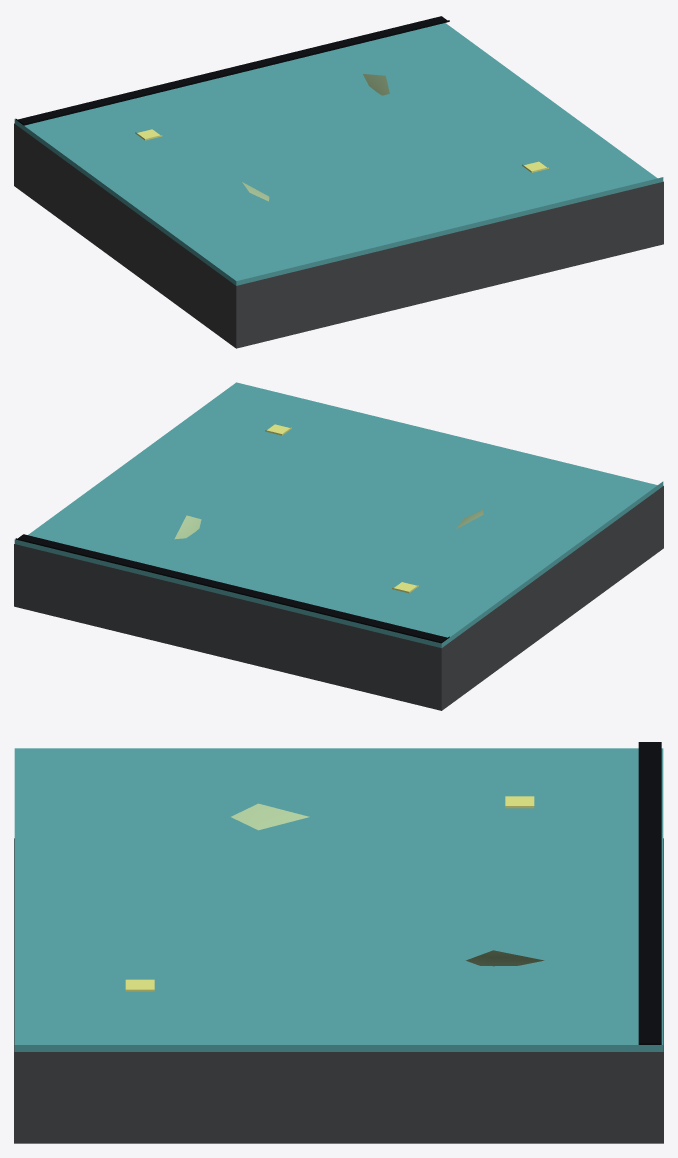
The model's file is tt_climb_mat_300_2x18.glb.
3 views of the same model, one above another, from view 1: azimuth 30°, elevation 25°; view 2: azimuth 150°, elevation 25°; view 3: azimuth 270°, elevation 25° (orthographic). The views are drawn at different scales.
Parts seen in each view (by area): view 1: Mat_Cover, Mat_Core, Velcro_Seam_Flap, Leaf_Print; view 2: Mat_Cover, Mat_Core, Velcro_Seam_Flap, Leaf_Print; view 3: Mat_Cover, Mat_Core, Velcro_Seam_Flap, Leaf_Print, Ball_Dots.
Part boxes in pixels (x1,y1,x2,y2): Mat_Cover: (14, 23, 663, 285); Mat_Core: (14, 123, 663, 348); Velcro_Seam_Flap: (15, 16, 449, 125); Leaf_Print: (242, 74, 389, 201); Mat_Cover: (14, 382, 663, 648); Mat_Core: (14, 486, 663, 710); Velcro_Seam_Flap: (15, 534, 449, 643); Leaf_Print: (174, 510, 483, 539); Mat_Cover: (14, 748, 663, 1051); Mat_Core: (14, 838, 663, 1143); Velcro_Seam_Flap: (638, 742, 661, 1044); Leaf_Print: (231, 803, 544, 966); Ball_Dots: (125, 796, 534, 991).
Size of what is drawn, in the model's own units: 2 by 0.3412 by 1.8.
5 materials, 1 textured.
